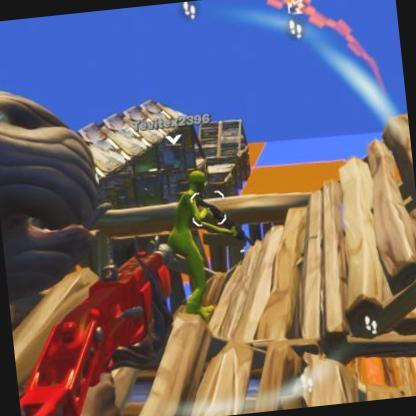person: (158, 166, 252, 298)
